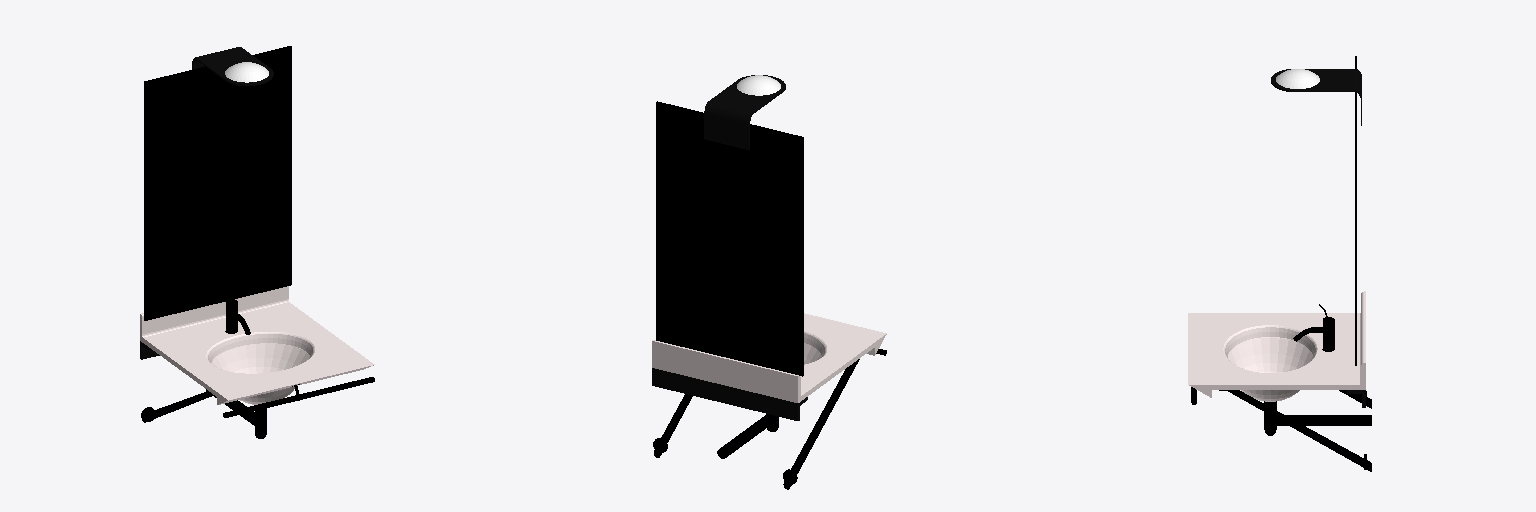
The model's file is bathroom1.obj.
The picture shows the model from 3 angles: view 1: azimuth 30°, elevation 25°; view 2: azimuth 150°, elevation 25°; view 3: azimuth 270°, elevation 25°; orthographic projection.
Parts seen in each view (by area): view 1: mirror_Cube.003, marble_Circle.001, container_Circle.002, lamp_support_Tube.001, towel_bar_Tube, lamp_top_Sphere, right_support_Cylinder.001, tap_Circle.003; view 2: mirror_Cube.003, marble_Circle.001, lamp_support_Tube.001, support_Cube.006, right_support_Cylinder.001, pipe2_Tube.002, lamp_top_Sphere, right_support.001_Cylinder; view 3: marble_Circle.001, container_Circle.002, lamp_support_Tube.001, right_support.001_Cylinder, pipe2_Tube.002, lamp_top_Sphere, tap_Circle.003, mirror_Cube.003.
Boxes of the visible parts, x1=… form: mirror_Cube.003: x1=144, y1=46, x2=291, y2=320; marble_Circle.001: x1=140, y1=286, x2=374, y2=404; container_Circle.002: x1=211, y1=343, x2=309, y2=404; lamp_support_Tube.001: x1=192, y1=47, x2=273, y2=85; towel_bar_Tube: x1=223, y1=377, x2=374, y2=417; lamp_top_Sphere: x1=225, y1=62, x2=268, y2=82; right_support_Cylinder.001: x1=141, y1=391, x2=213, y2=422; tap_Circle.003: x1=225, y1=289, x2=250, y2=334; mirror_Cube.003: x1=656, y1=101, x2=803, y2=376; marble_Circle.001: x1=652, y1=313, x2=886, y2=402; lamp_support_Tube.001: x1=704, y1=75, x2=785, y2=149; support_Cube.006: x1=652, y1=368, x2=807, y2=420; right_support_Cylinder.001: x1=783, y1=359, x2=859, y2=489; pipe2_Tube.002: x1=717, y1=414, x2=775, y2=458; lamp_top_Sphere: x1=737, y1=75, x2=780, y2=95; right_support.001_Cylinder: x1=653, y1=394, x2=692, y2=457; marble_Circle.001: x1=1188, y1=291, x2=1365, y2=397; container_Circle.002: x1=1228, y1=337, x2=1312, y2=401; lamp_support_Tube.001: x1=1271, y1=69, x2=1361, y2=125; right_support.001_Cylinder: x1=1219, y1=390, x2=1371, y2=471; pipe2_Tube.002: x1=1273, y1=415, x2=1371, y2=425; lamp_top_Sphere: x1=1276, y1=69, x2=1319, y2=88; tap_Circle.003: x1=1293, y1=304, x2=1334, y2=351; mirror_Cube.003: x1=1355, y1=56, x2=1356, y2=365.
Bounding box in the file's own units: 0.7317 × 1.73 × 0.7789.